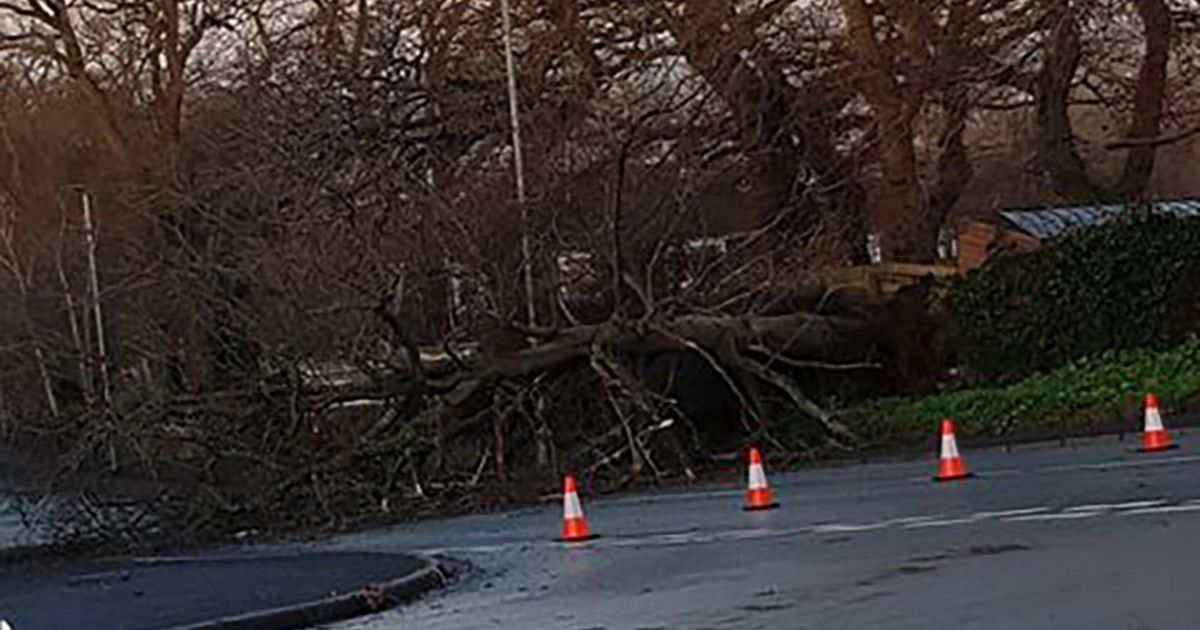cone: (539, 464, 607, 548), (722, 441, 793, 517), (915, 413, 982, 488), (1126, 391, 1179, 461)
